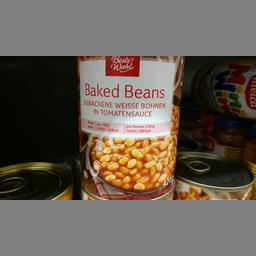beans: (74, 54, 183, 198)
